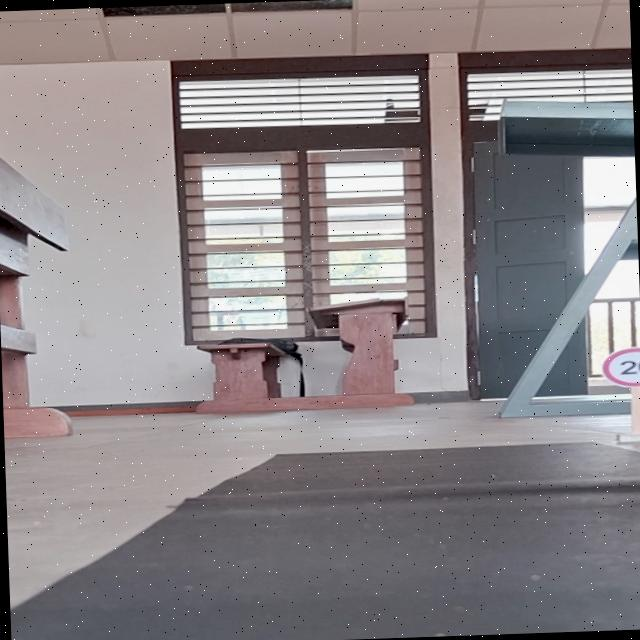Speed20: (594, 342, 640, 391)
